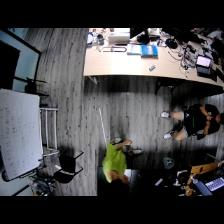normal: (161, 103, 224, 139), (103, 134, 133, 188)
